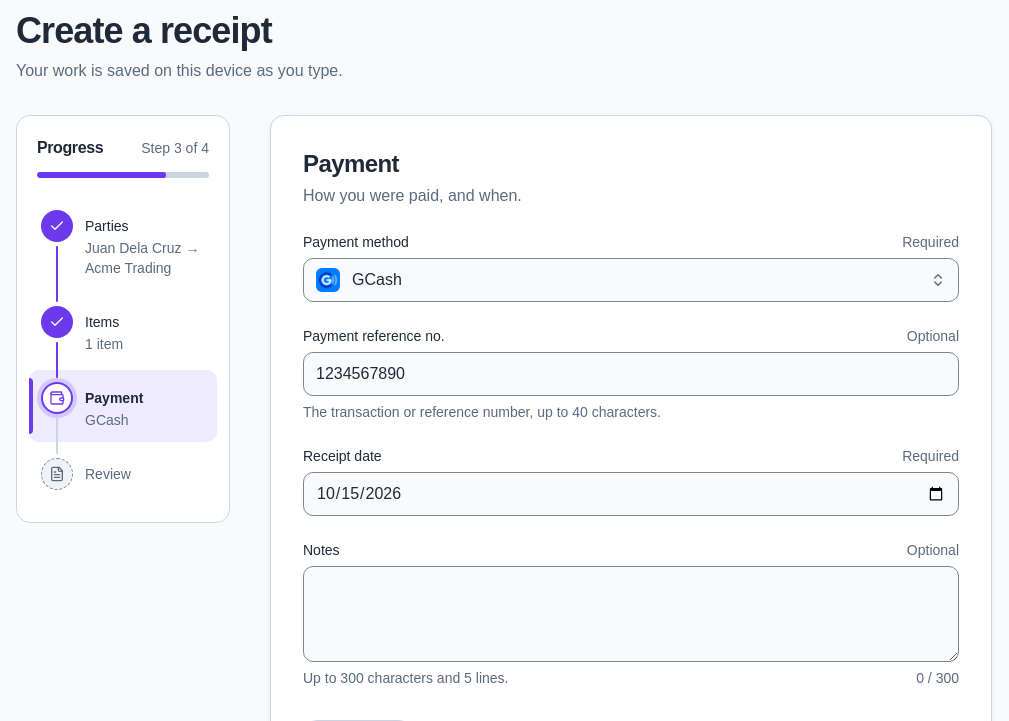
Test case: the timeline › goes to a completed step without validating
Click the button "Parties Juan Dela Cruz → Acme Trading" at (123, 244), box [29,198,217,290]
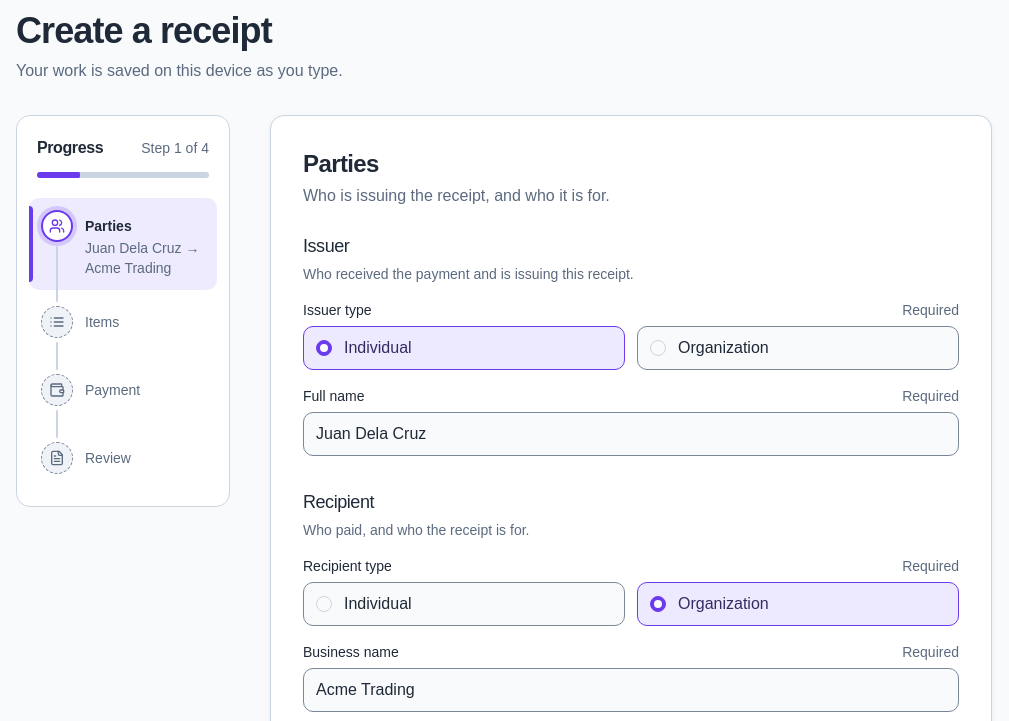
Now the heading "Parties" is shown, box [303,150,379,177]
